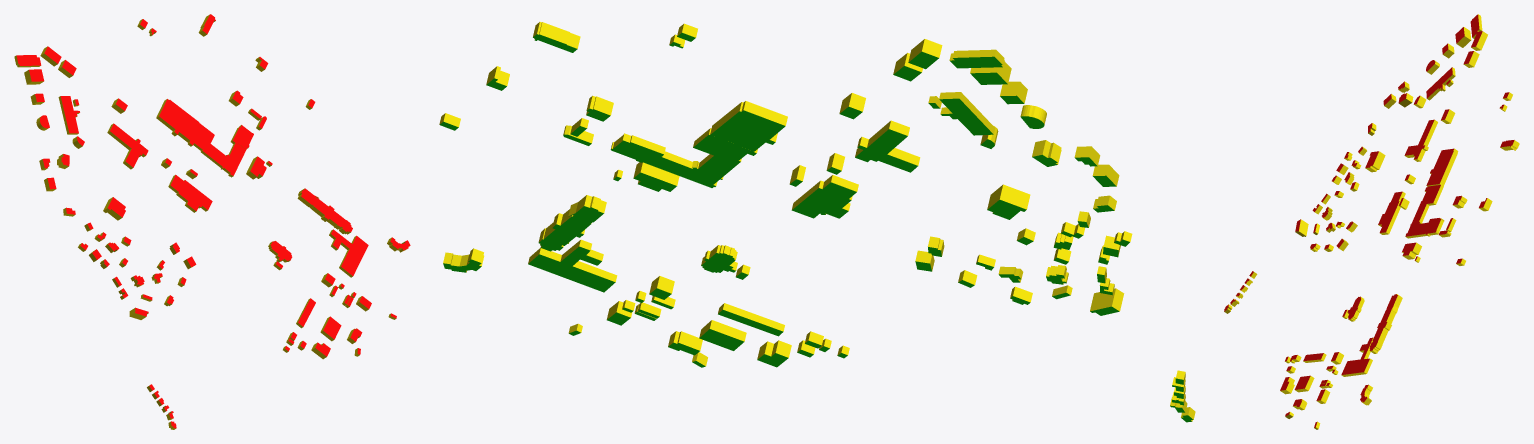
The picture shows the model from 3 angles, left to right: view 1: azimuth 30°, elevation 25°; view 2: azimuth 150°, elevation 25°; view 3: azimuth 270°, elevation 25°; orthographic projection. The views are drawn at different scales.
Visible parts, largest first — view 1: mesh; view 2: mesh; view 3: mesh.
Boxes of the visible parts, x1=… form: mesh: x1=14, y1=14, x2=410, y2=429; mesh: x1=439, y1=22, x2=1195, y2=422; mesh: x1=1224, y1=14, x2=1519, y2=429.
Bounding box in the file's own units: 1038 × 821 × 766.
